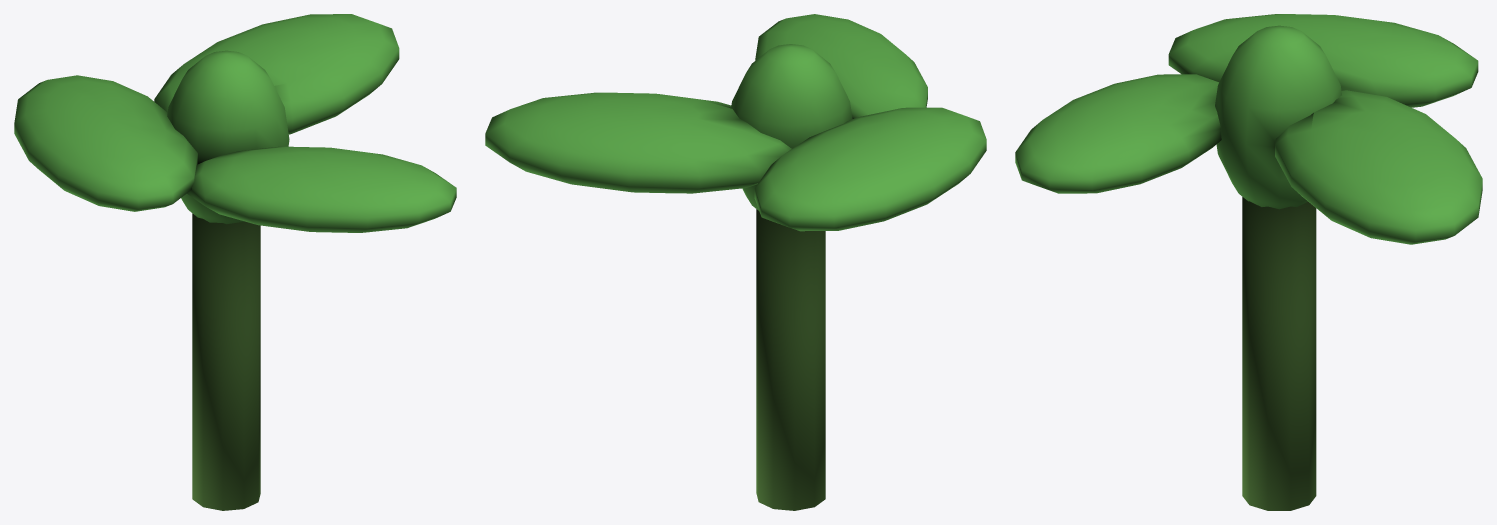
The model's file is herb.glb.
The picture shows the model from 3 angles, left to right: view 1: azimuth 30°, elevation 25°; view 2: azimuth 150°, elevation 25°; view 3: azimuth 270°, elevation 25°; orthographic projection. The views are drawn at different scales.
Parts seen in each view (by area): view 1: herb; view 2: herb; view 3: herb.
Boxes of the visible parts, left/top/right/bottom form: herb: left=14, top=14, right=456, bottom=510; herb: left=485, top=14, right=986, bottom=510; herb: left=1015, top=14, right=1482, bottom=510.
Bounding box in the file's own units: 0.2659 × 0.279 × 0.2532.
